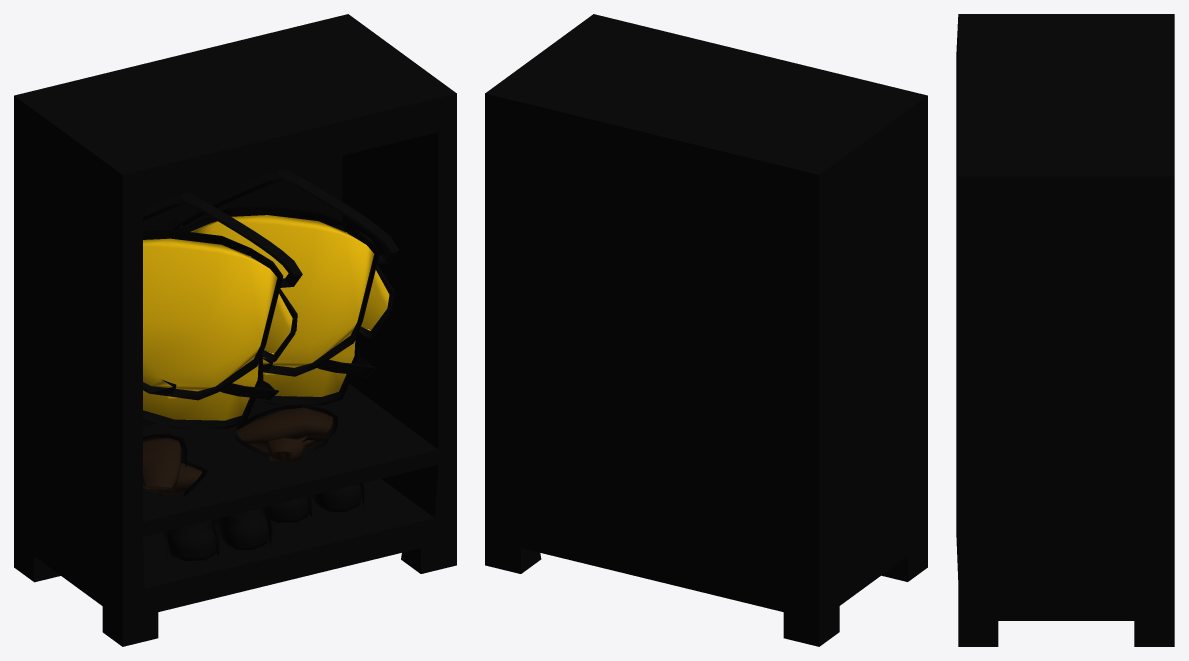
File: Wardrobe.fbx
3 renders of one model, left to right at view 1: azimuth 30°, elevation 25°; view 2: azimuth 150°, elevation 25°; view 3: azimuth 270°, elevation 25°, orthographic.
Visible parts, largest first — view 1: Cube, Corpo, Corpo.002, Luvas.001, Pé, Cabide.001, Luvas, Cabide, Pé.001, Cylinder.002, Cylinder.001; view 2: Cube; view 3: Cube.
Part boxes in pixels (left/top/right/bottom): Cube: left=14, top=14, right=456, bottom=646; Corpo: left=143, top=229, right=297, bottom=428; Corpo.002: left=180, top=206, right=394, bottom=405; Luvas.001: left=231, top=405, right=337, bottom=461; Pé: left=163, top=507, right=272, bottom=561; Cabide.001: left=167, top=169, right=399, bottom=264; Luvas: left=143, top=434, right=207, bottom=496; Cabide: left=143, top=193, right=302, bottom=287; Pé.001: left=266, top=483, right=364, bottom=522; Cylinder.002: left=177, top=225, right=380, bottom=377; Cylinder.001: left=220, top=381, right=278, bottom=401; Cube: left=485, top=14, right=927, bottom=646; Cube: left=956, top=14, right=1174, bottom=646.
Size of the model in its own units: 244 by 329 by 139.
